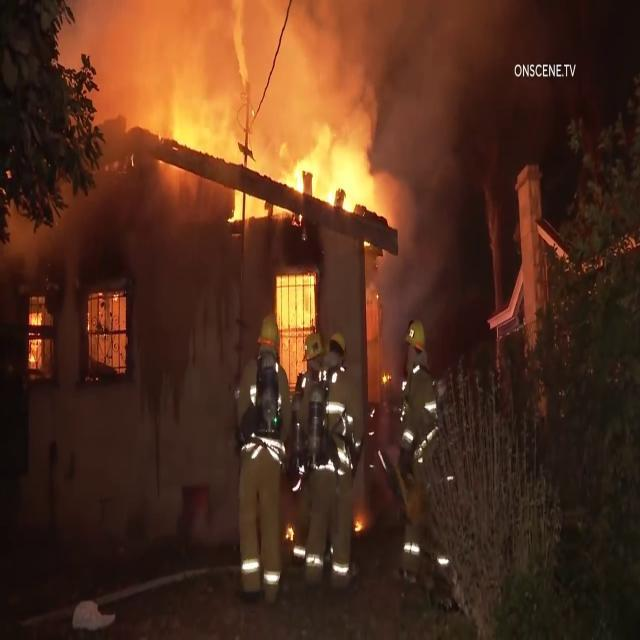Fire: (161, 106, 375, 228), (282, 278, 314, 371), (24, 301, 46, 361), (351, 511, 364, 542), (287, 522, 298, 546)
Smoke: (114, 0, 505, 93), (396, 113, 456, 332)
